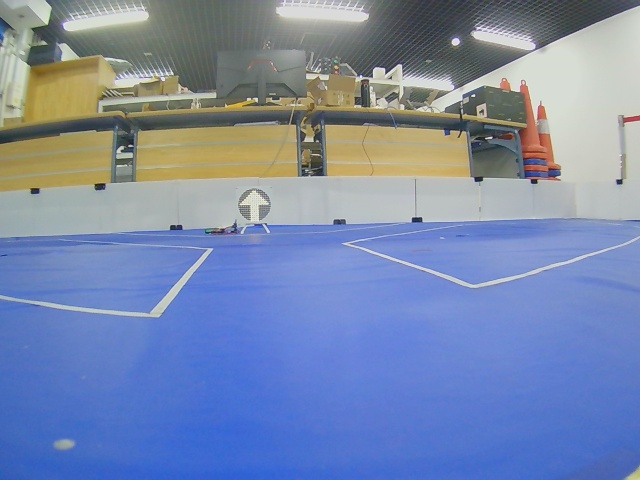straight_yellow: (239, 188, 271, 222)
